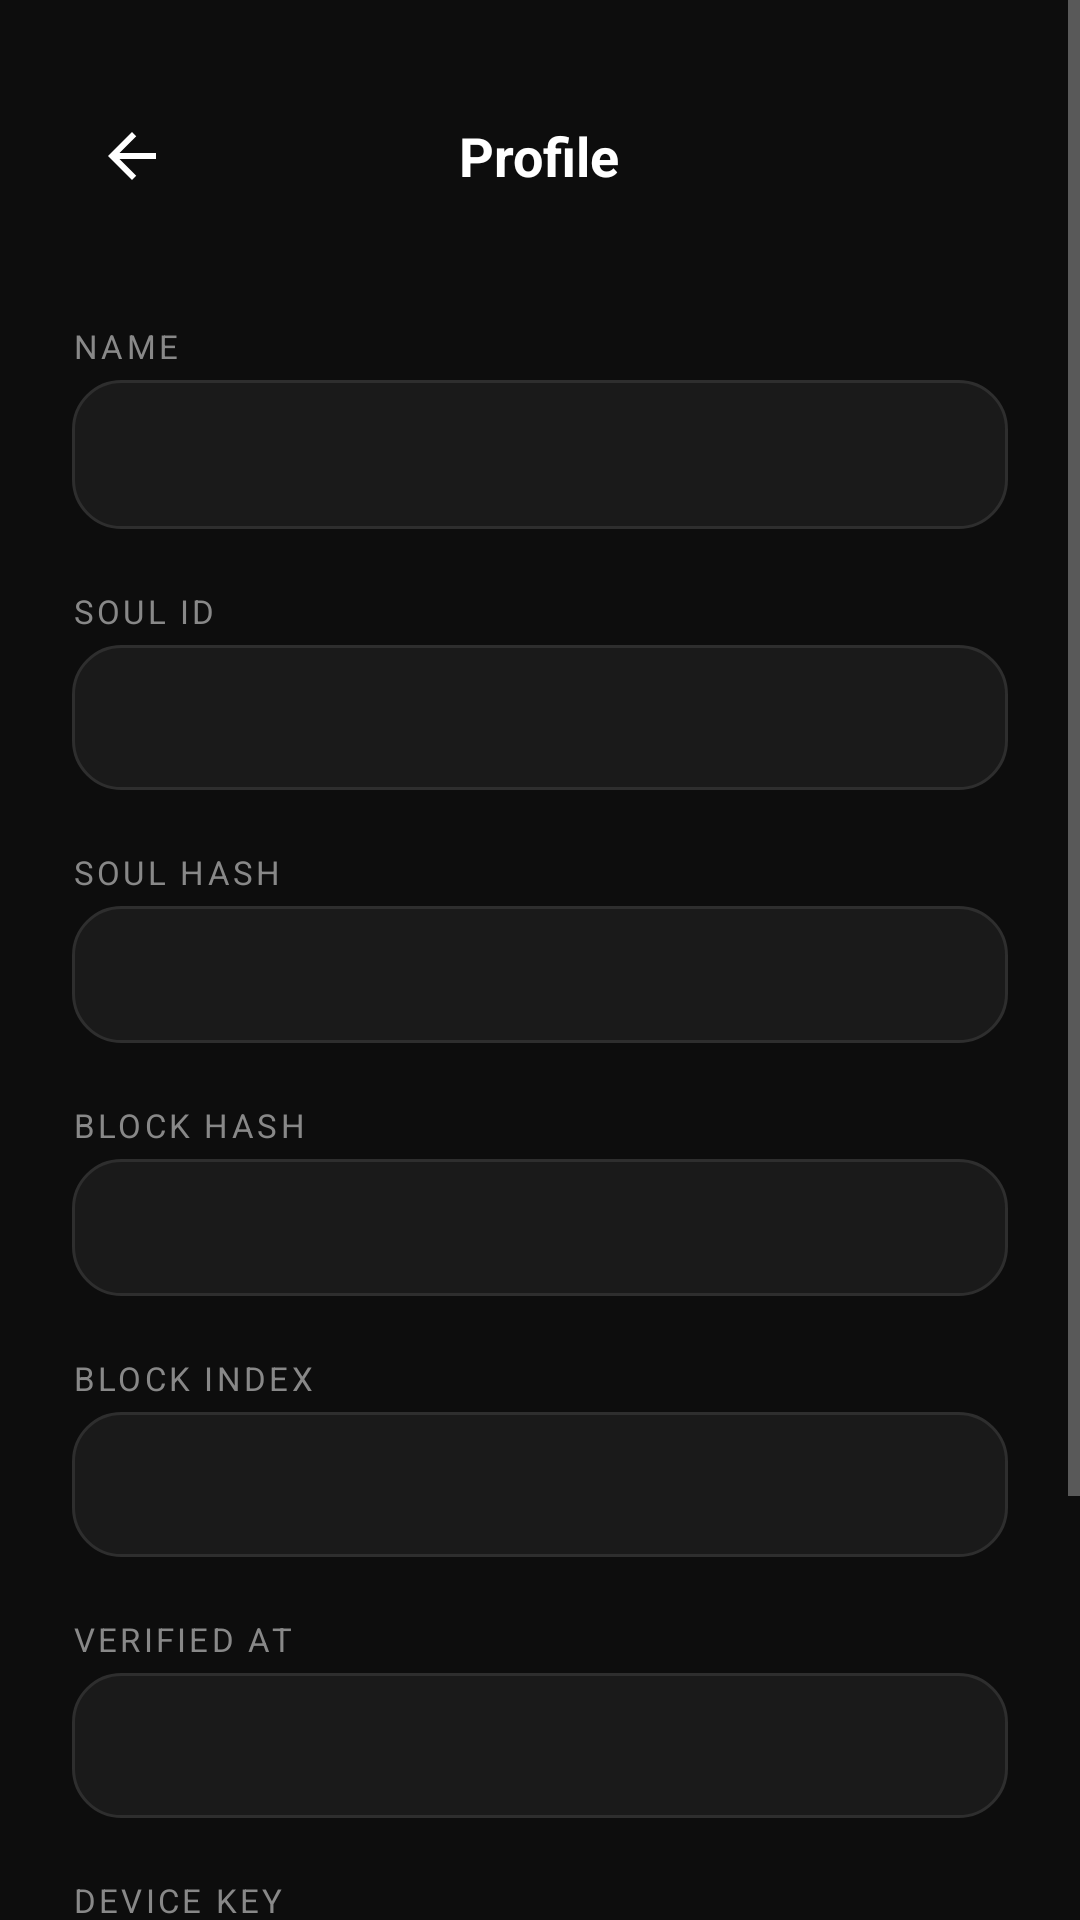

Screen size 1080*1920. Icon name, then its box in pixels as (x1, y1, x2, y2):
Back: (108, 132, 156, 180)
